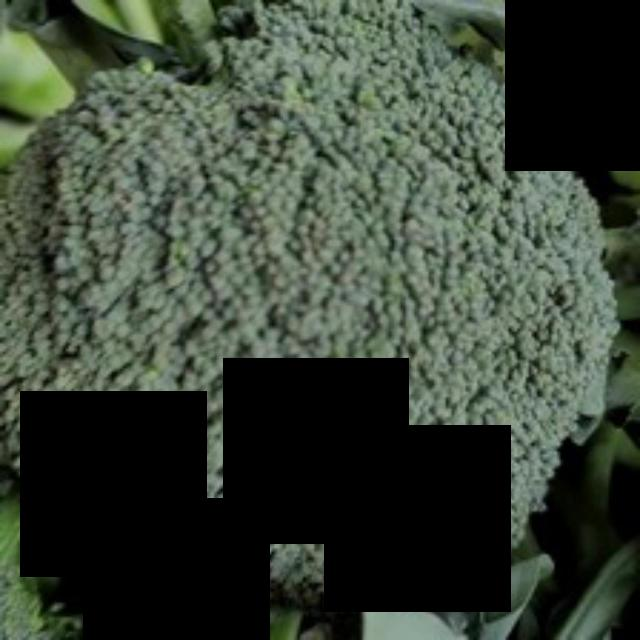broccoli: (0, 3, 618, 617)
